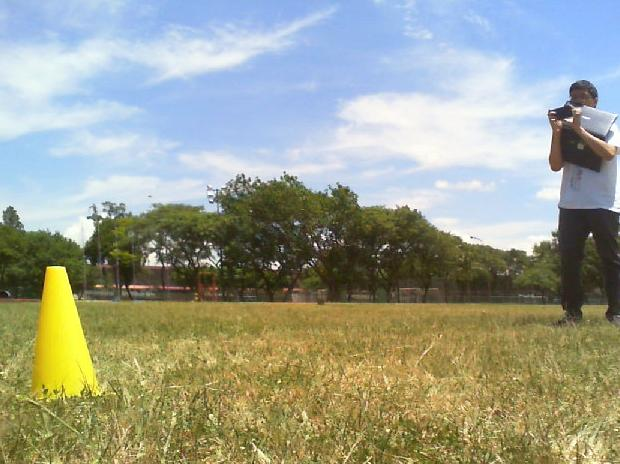0 cone: (16, 266, 117, 403)
